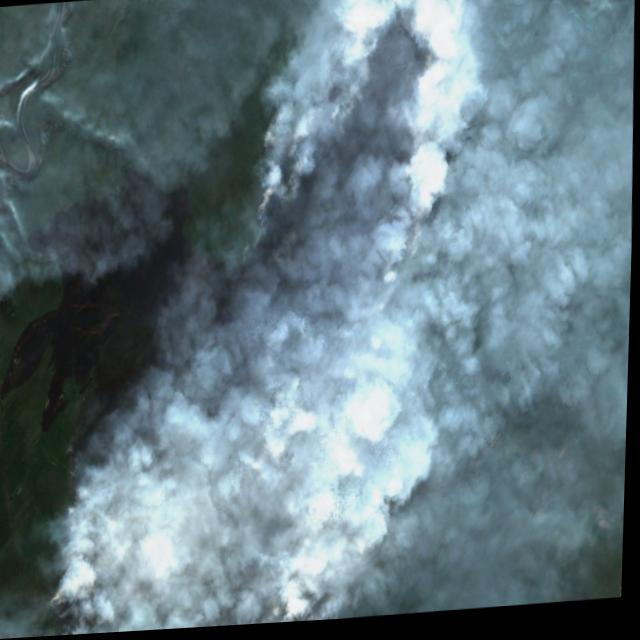fire: (376, 211, 427, 287), (40, 567, 83, 637), (249, 189, 276, 244)
